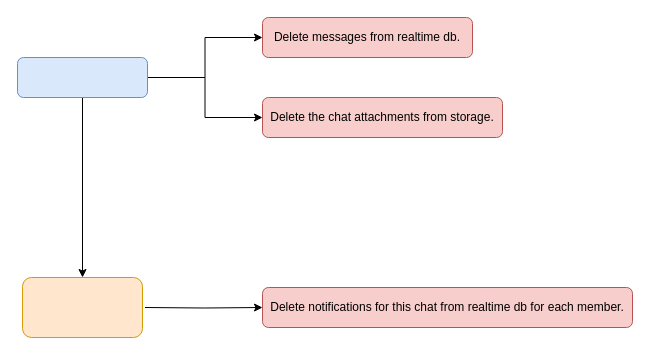
This 650x355 diagram has some shape labels left out. The shapes that lost their labels are listed below. From the top down, each one's box as (x1, y1, x2, y2) in pixels, then its label:
(16, 56, 148, 98): A DM Chat is deleted
(22, 276, 142, 338): Get the ID of the members
